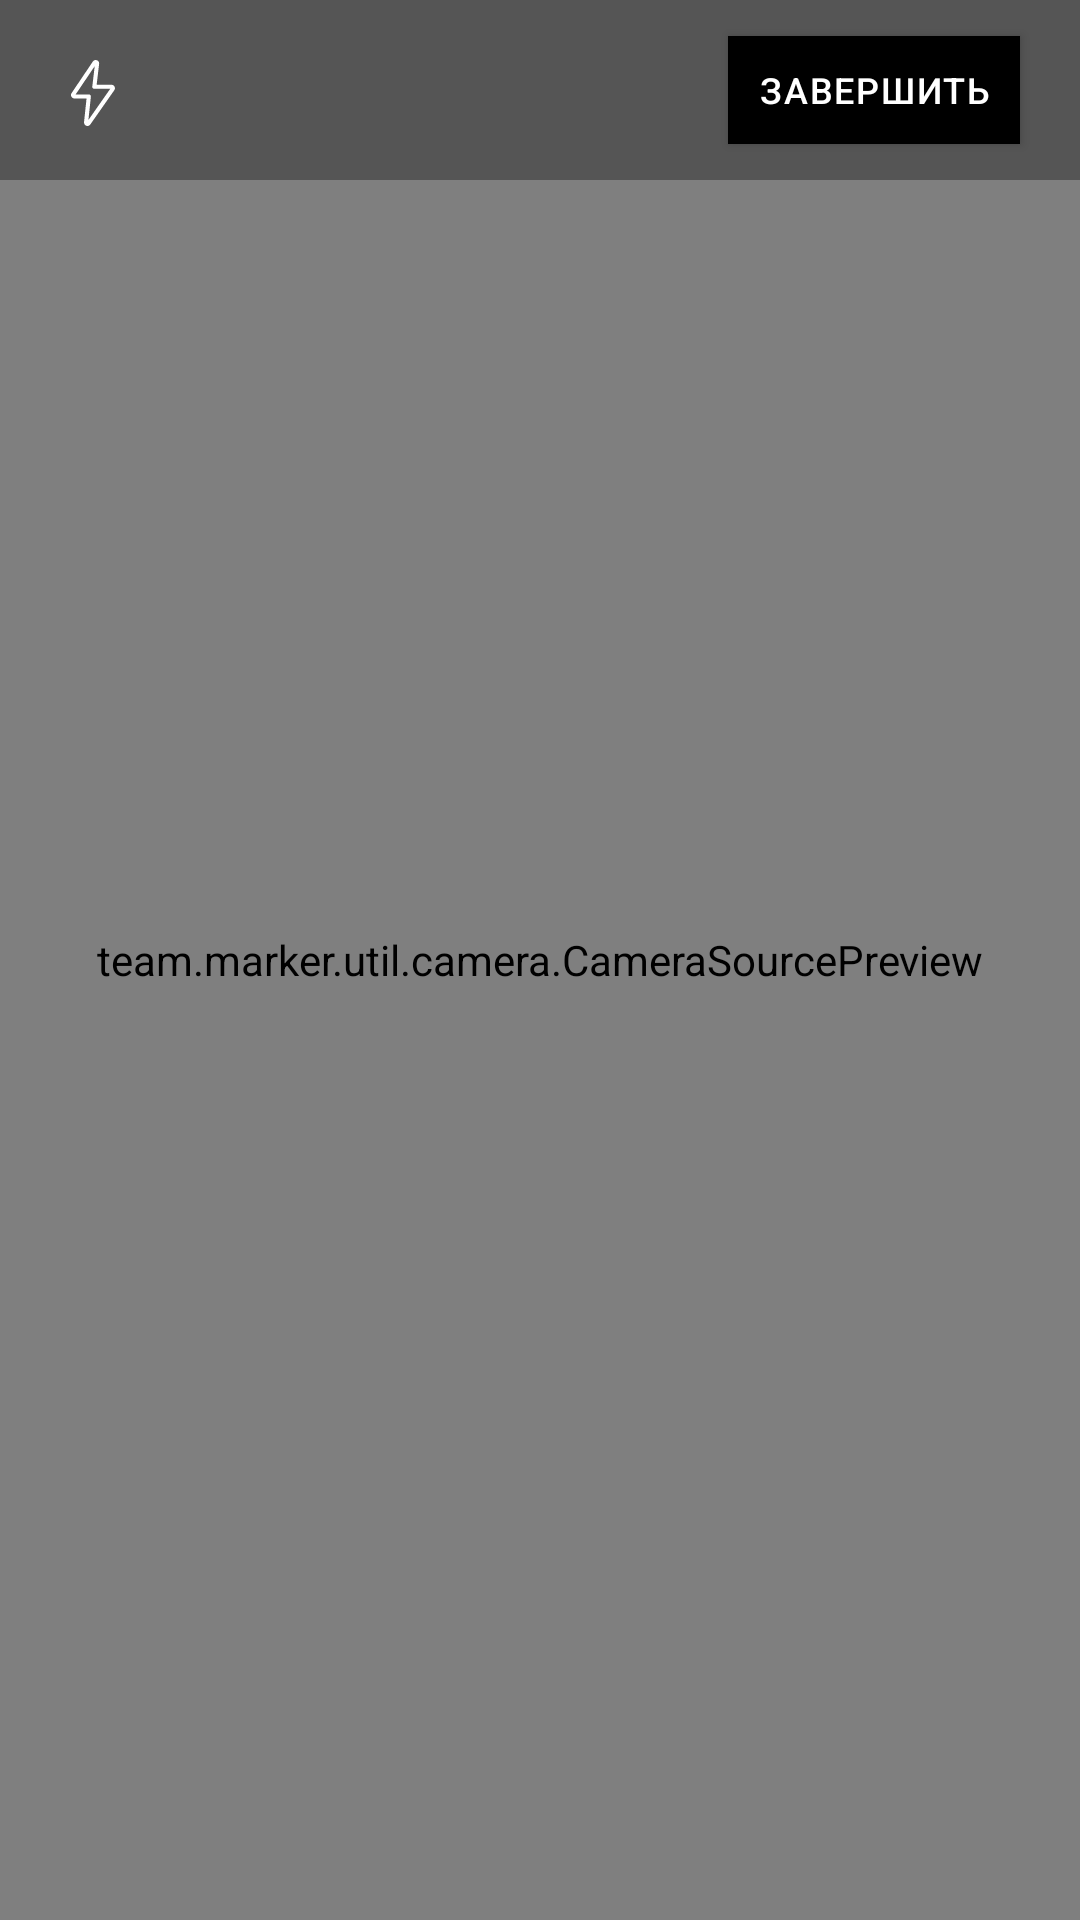

Point at icon controls on the screen. Image size 1080 x 1920, points as point (x, y).
flash: point (93, 93)
